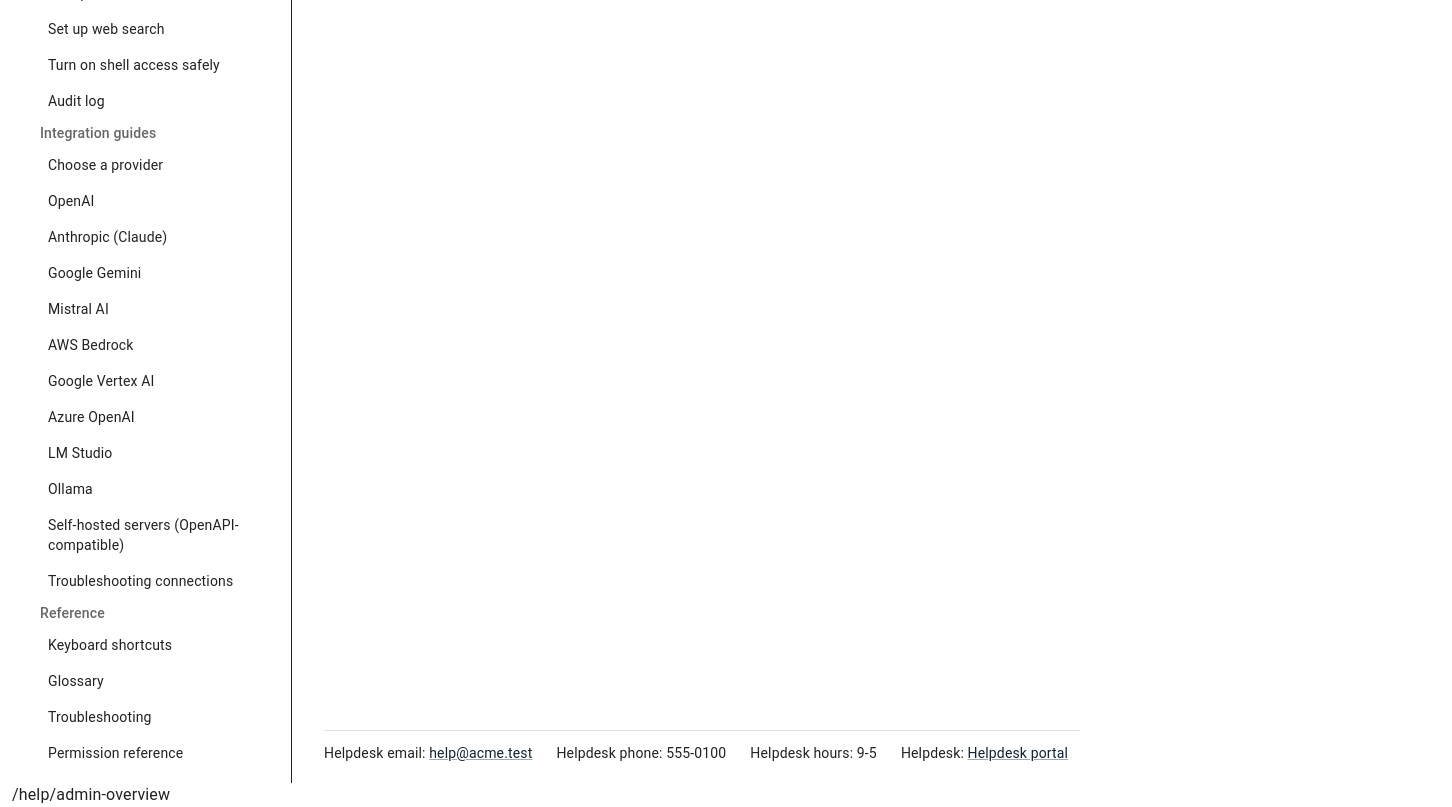
Test case: Help page › renders Markdown: lists, bold, code, and tables
(page scrolled)
Click the link "Keyboard shortcuts".
click(110, 645)  # box [48,637,172,653]
(page scrolled)
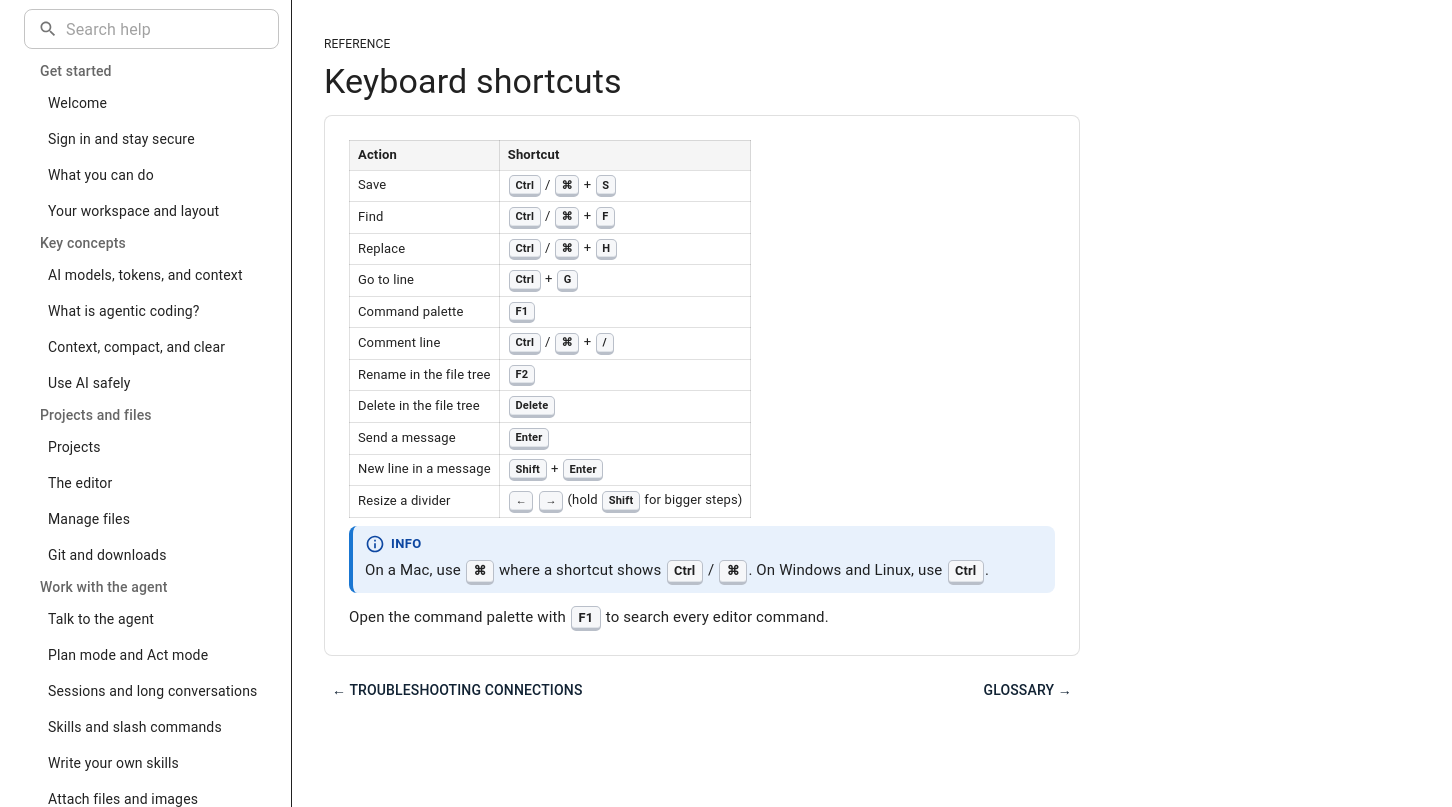
Check: the cell "Ctrl / ⌘ + S" is shown, box [499,170,751,202]
